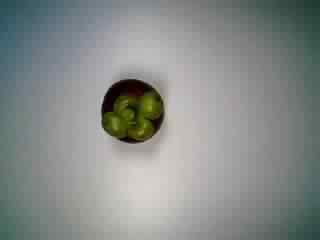mangosteen: (92, 71, 167, 146)
